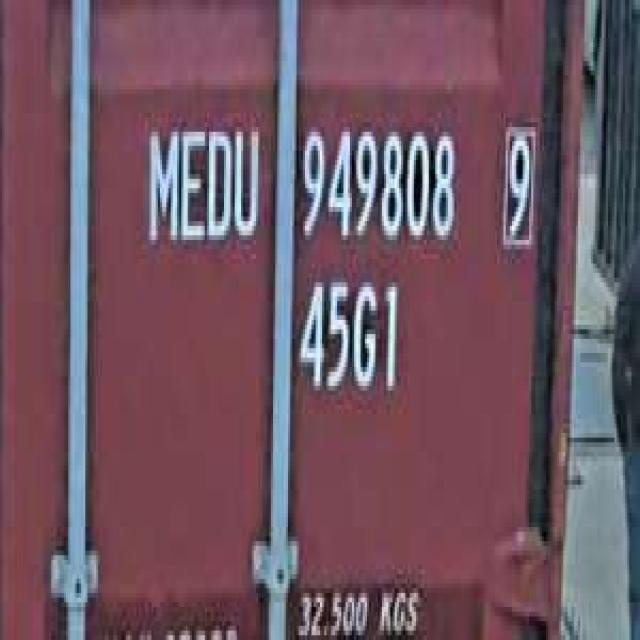dv: (497, 113, 540, 254)
owner: (139, 113, 262, 259)
serial: (294, 108, 463, 259)
size: (292, 264, 403, 409)
